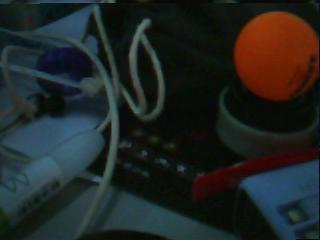oball: (234, 11, 319, 100)
